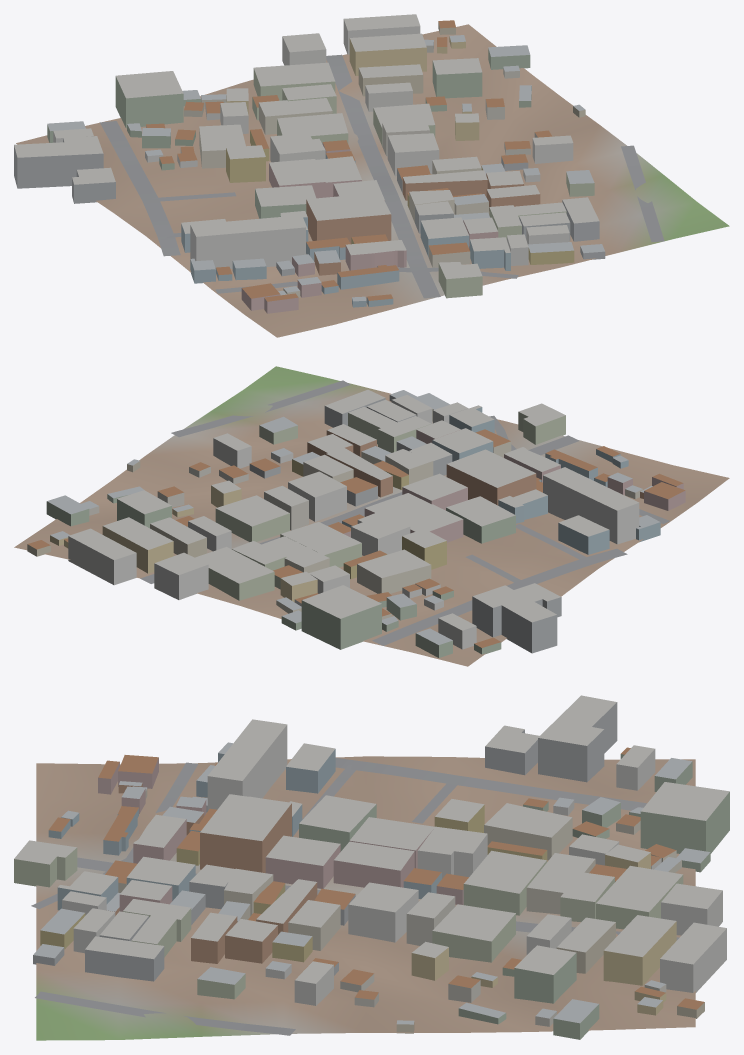
The picture shows the model from 3 angles, top to bottom: view 1: azimuth 30°, elevation 25°; view 2: azimuth 150°, elevation 25°; view 3: azimuth 270°, elevation 25°; orthographic projection. The views are drawn at different scales.
Visible parts, largest first — view 1: Lo; view 2: Lo; view 3: Lo.
Boxes of the visible parts, bbox=[...] form: Lo: bbox=[14, 14, 729, 337]; Lo: bbox=[14, 366, 729, 666]; Lo: bbox=[14, 695, 729, 1040].
Size of the model in its own units: 288 by 21.18 by 278.
